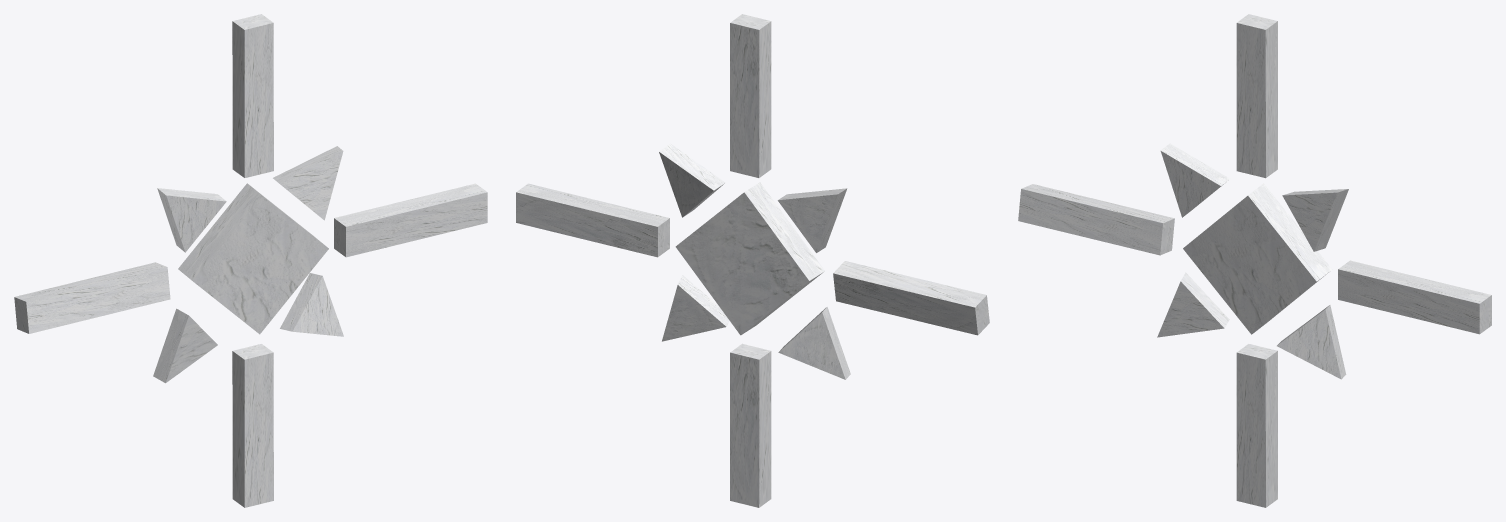
Rendered from Enemy_1.obj.
3 renders of one model, left to right at view 1: azimuth 30°, elevation 25°; view 2: azimuth 150°, elevation 25°; view 3: azimuth 330°, elevation 25°, orthographic.
Parts seen in each view (by area): view 1: Cube, 立方体.003, 立方体.004, 立方体.002, 立方体.001, Cube.002, Cube.001, Cube.004, Cube.003; view 2: Cube, 立方体.003, 立方体.004, 立方体.001, 立方体.002, Cube.004, Cube.001, Cube.003, Cube.002; view 3: Cube, 立方体.004, 立方体.003, 立方体.002, 立方体.001, Cube.003, Cube.001, Cube.004, Cube.002.
Part boxes in pixels (<box>): Cube: <box>178,183,328,334</box>; 立方体.003: <box>232,14,273,177</box>; 立方体.004: <box>232,344,273,507</box>; 立方体.002: <box>334,183,487,257</box>; 立方体.001: <box>14,262,170,333</box>; Cube.002: <box>273,146,343,220</box>; Cube.001: <box>157,188,226,252</box>; Cube.004: <box>153,308,217,383</box>; Cube.003: <box>280,273,343,336</box>; Cube: <box>675,182,824,335</box>; 立方体.003: <box>730,14,771,177</box>; 立方体.004: <box>730,343,771,507</box>; 立方体.001: <box>833,261,989,335</box>; 立方体.002: <box>516,183,669,257</box>; Cube.004: <box>778,307,850,379</box>; Cube.001: <box>777,188,847,252</box>; Cube.003: <box>662,275,729,341</box>; Cube.002: <box>659,143,725,217</box>; Cube: <box>1183,183,1332,334</box>; 立方体.004: <box>1236,344,1277,507</box>; 立方体.003: <box>1236,14,1277,178</box>; 立方体.002: <box>1338,260,1491,334</box>; 立方体.001: <box>1018,184,1174,255</box>; Cube.003: <box>1277,305,1346,379</box>; Cube.001: <box>1160,143,1229,217</box>; Cube.004: <box>1157,272,1229,337</box>; Cube.002: <box>1282,189,1348,251</box>.
Size of the model in its own units: 6.49 by 6.45 by 0.4904.
1 material, 1 textured.
